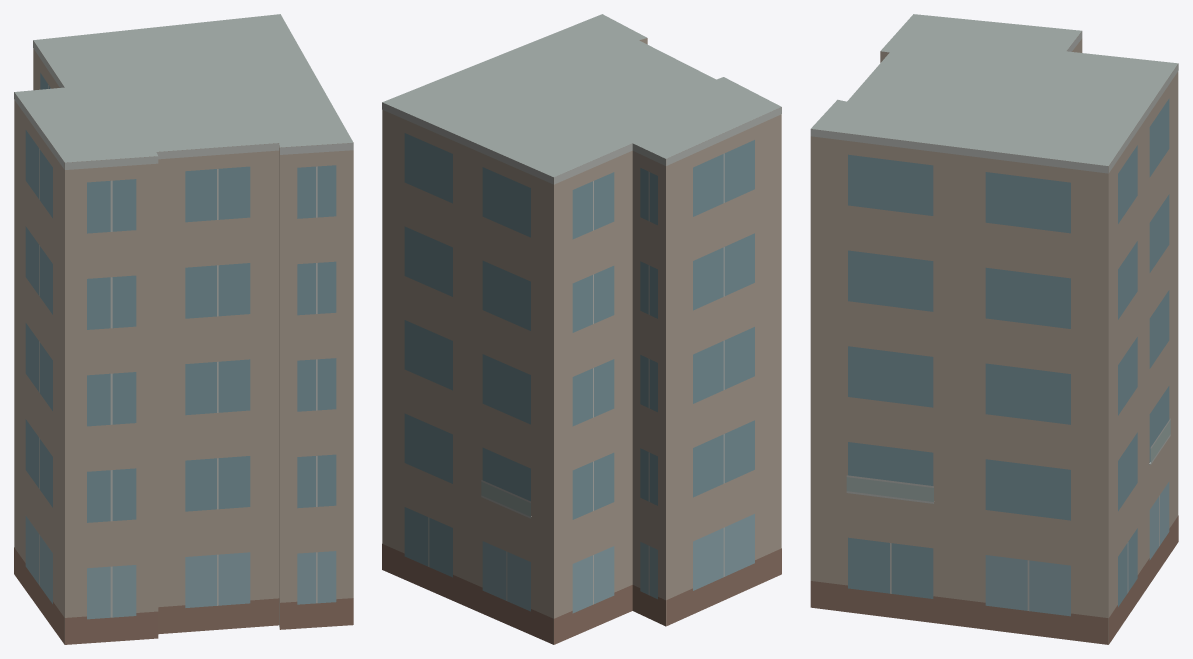
Rendered from survey-upis-32977648.glb.
3 views of the same model, side by side, from view 1: azimuth 30°, elevation 25°; view 2: azimuth 150°, elevation 25°; view 3: azimuth 270°, elevation 25° (orthographic). The views are drawn at different scales.
Parts seen in each view (by area): view 1: survey-upis-32977648.tmp; view 2: survey-upis-32977648.tmp; view 3: survey-upis-32977648.tmp.
Boxes of the visible parts, bbox=[...] form: survey-upis-32977648.tmp: bbox=[14, 14, 353, 644]; survey-upis-32977648.tmp: bbox=[382, 14, 781, 644]; survey-upis-32977648.tmp: bbox=[810, 14, 1178, 644].
Size of the model in its own units: 10.68 by 15.65 by 10.91.
